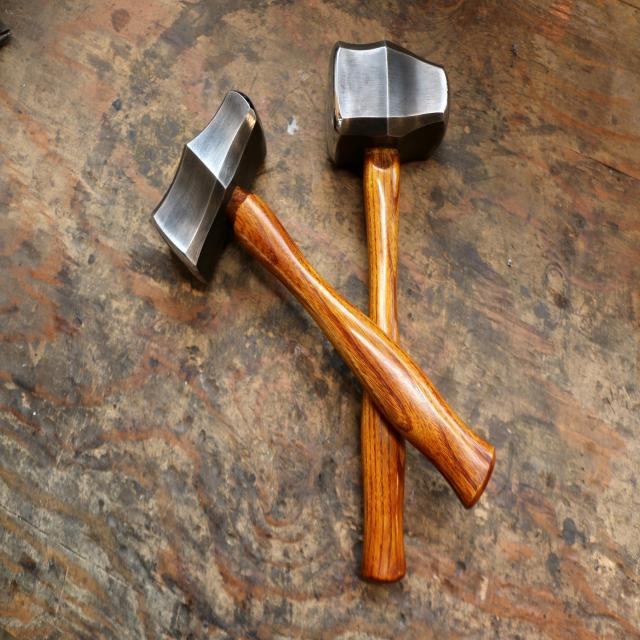hammer: (146, 86, 516, 518), (320, 34, 454, 602)
